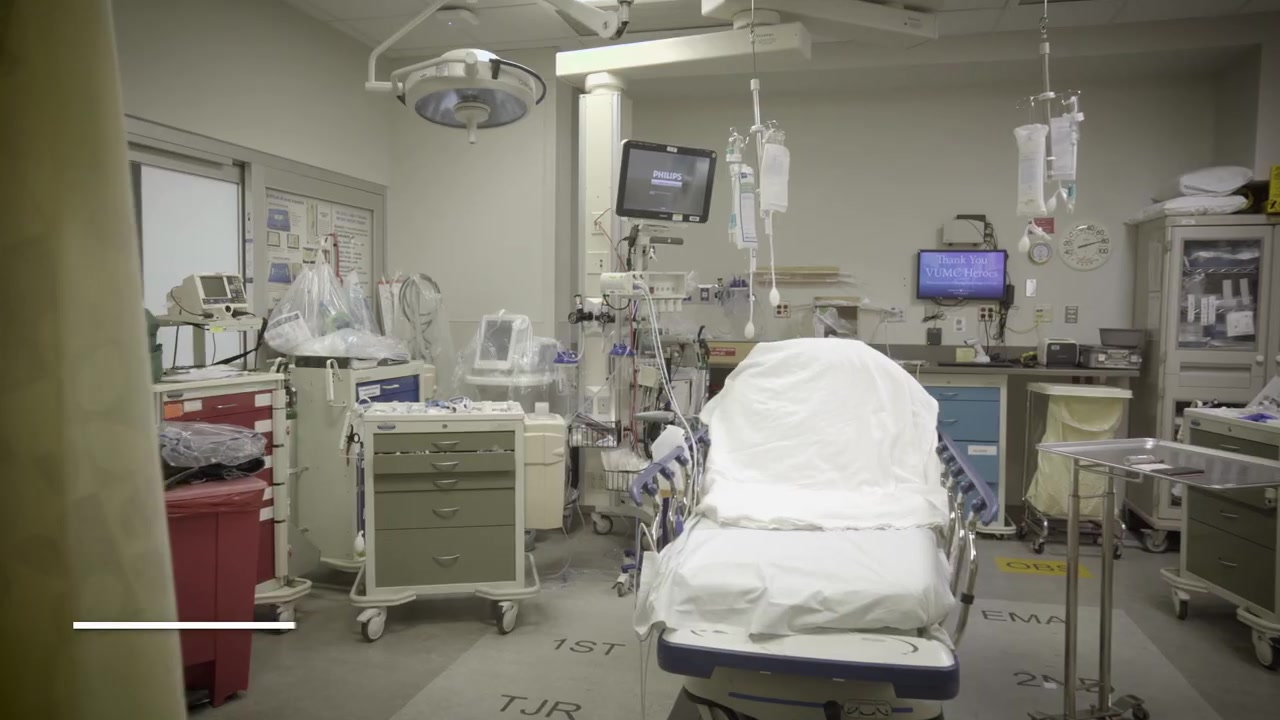bedrail: (931, 418, 1002, 654), (630, 421, 713, 554)
bedside_monitor: (615, 138, 718, 228), (477, 315, 519, 367)
cabinet: (1132, 214, 1280, 552)
computer: (916, 248, 1010, 302)
handle: (1253, 350, 1280, 369), (1214, 554, 1239, 570), (432, 552, 462, 562), (1218, 440, 1243, 452), (1217, 507, 1240, 520), (431, 505, 462, 514), (431, 459, 460, 468), (430, 439, 461, 447), (431, 477, 459, 485), (214, 402, 241, 409), (380, 382, 400, 390), (937, 390, 959, 397), (940, 418, 959, 423)
keyboard: (936, 362, 1016, 368)
medical_drawer: (350, 400, 569, 641), (276, 345, 429, 594), (154, 372, 292, 634), (1175, 408, 1279, 668), (861, 373, 1009, 536)
mouse: (1022, 360, 1035, 368)
operating_bed: (629, 335, 962, 647)
overbed_table: (1034, 436, 1278, 720)
surgical_instrument: (1122, 453, 1206, 478)
surgical_light: (392, 50, 537, 142)
waste_bin: (165, 470, 266, 711), (1024, 381, 1133, 557)
